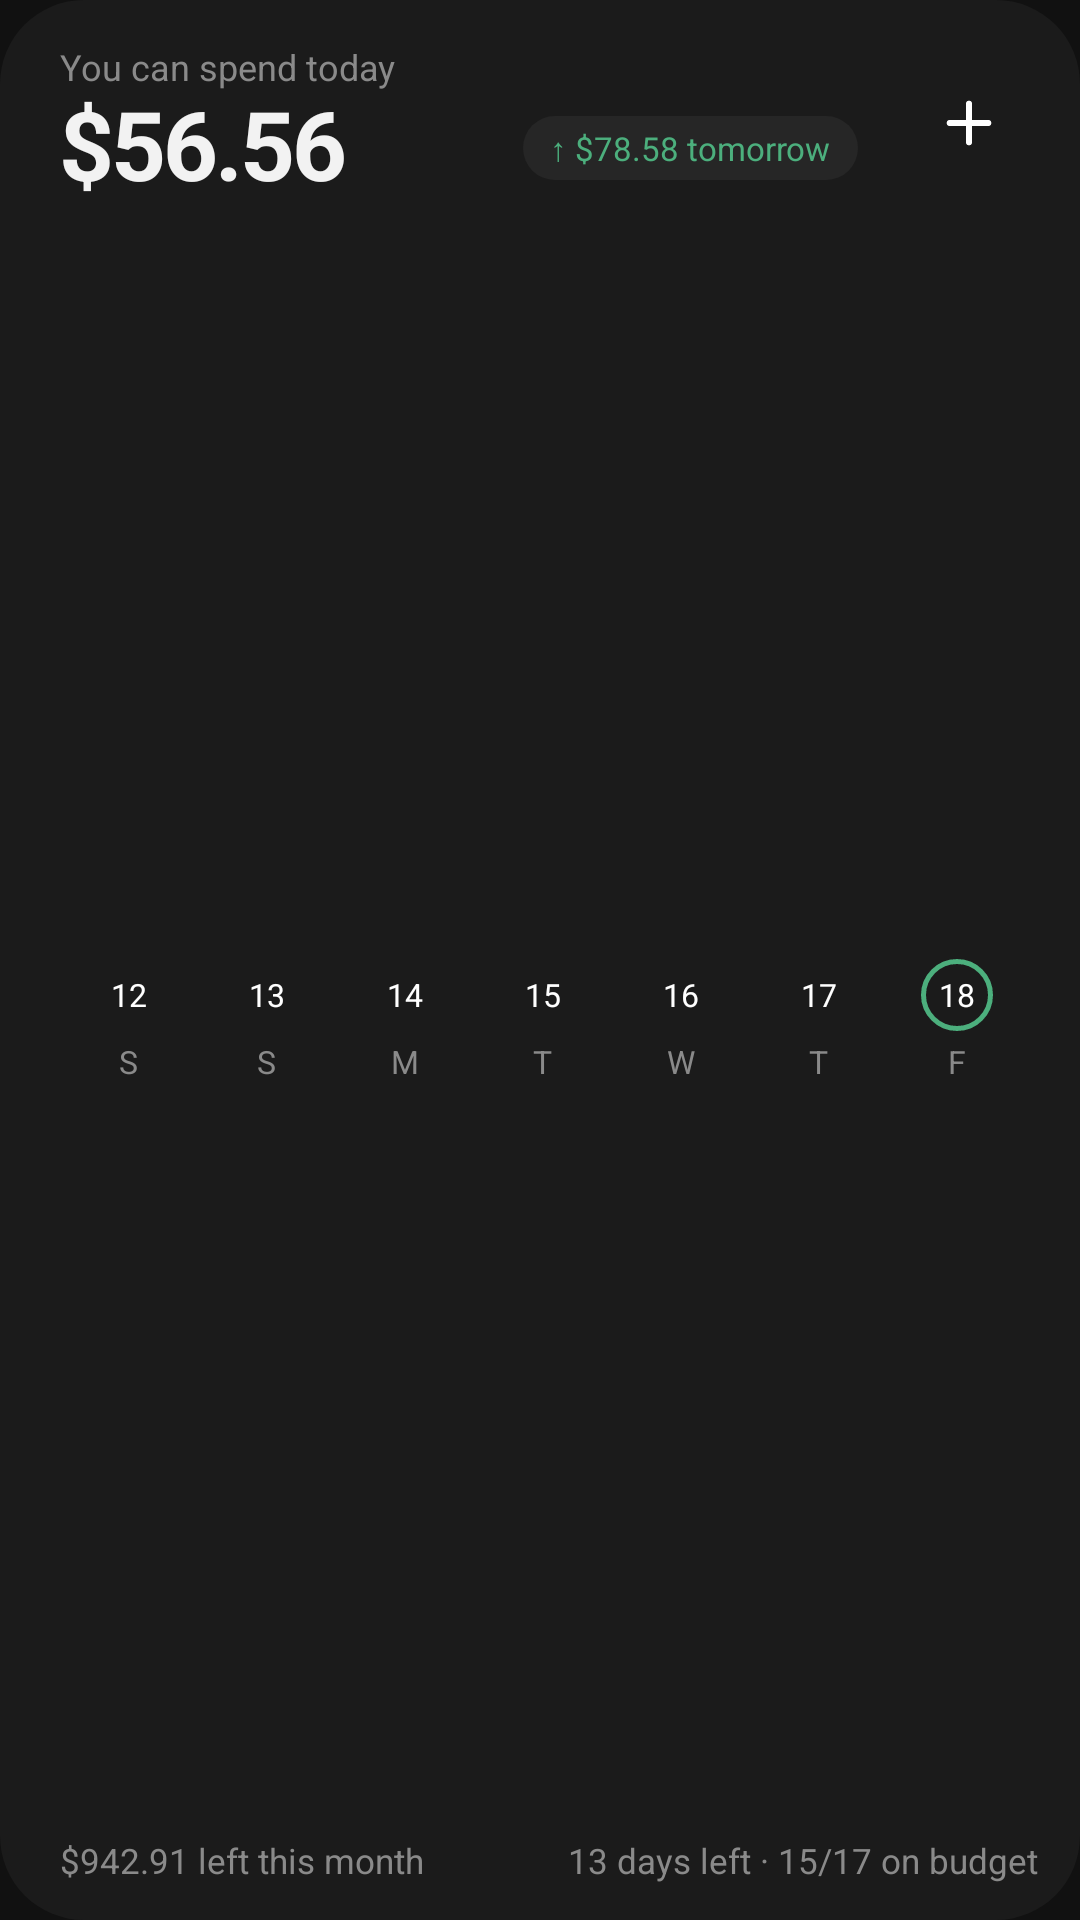

Screen size 1080 x 1920. Icon name, then its box in pixels as (x1, y1, x2, y2):
widget add: (946, 100, 992, 146)
